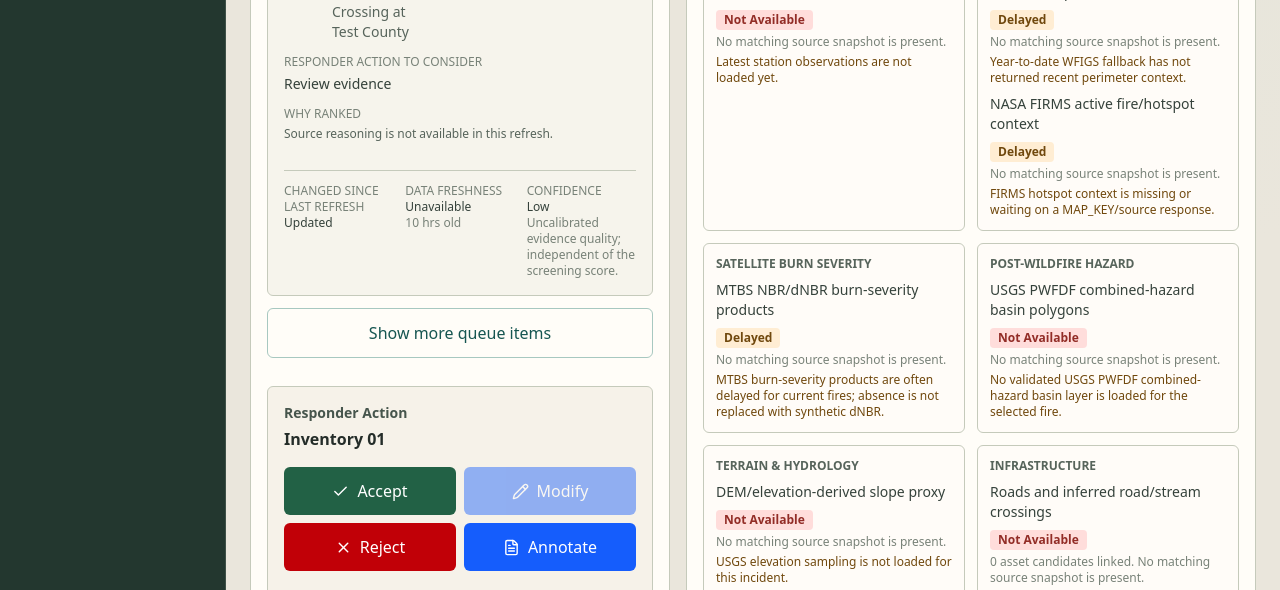
Test: FA10 displayed revision and uncertain command journey › exposes items beyond the first ten without changing original queue ranks
(page scrolled)
Expected: the heading "Inventory 12" is not shown
Click the button "Show more queue items" at [460, 333], box [267,308,653,358]
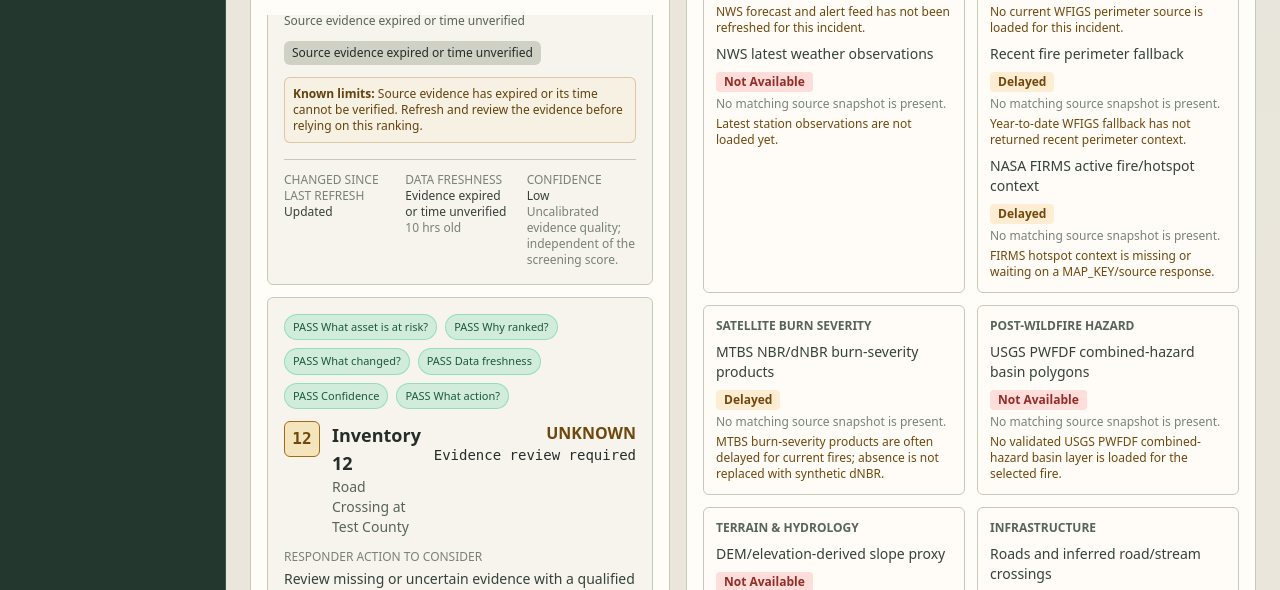
Expected: the text "12" is shown, [284,421,320,457]
Expected: the button "Show more queue items" is gone
